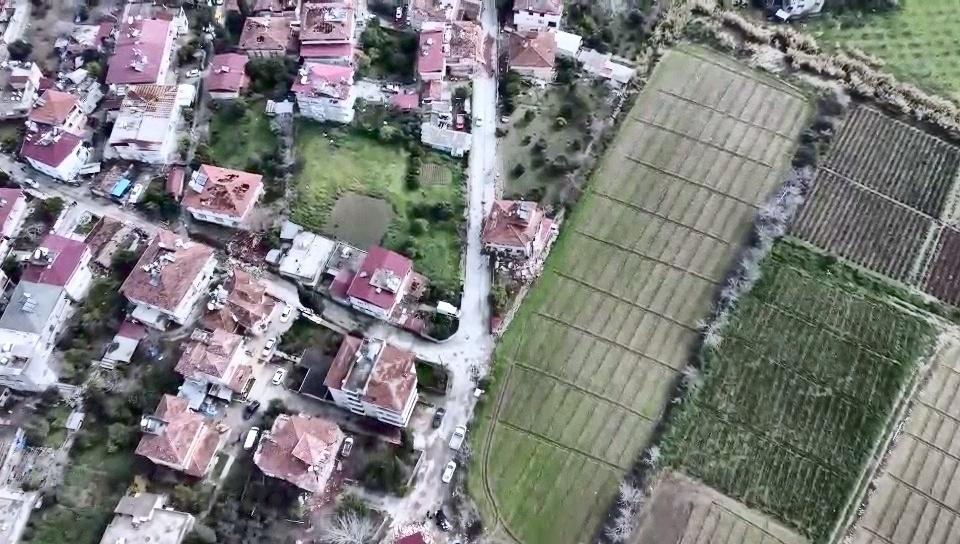kapali: (205, 246, 279, 295), (473, 18, 498, 95)
